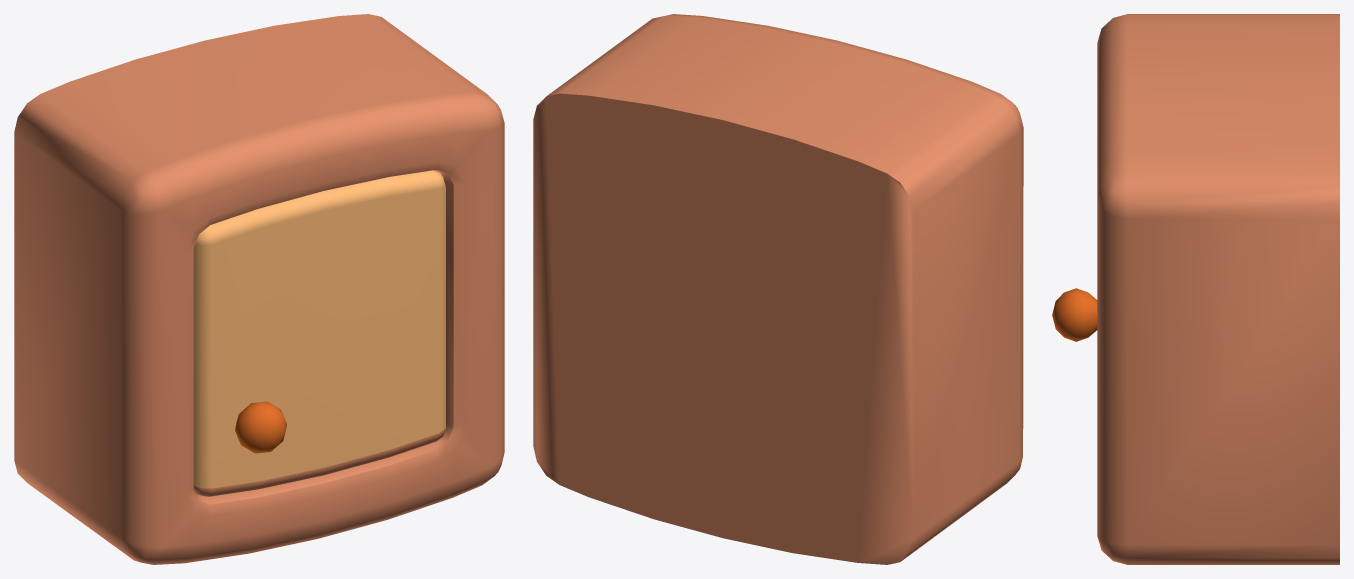
The model's file is armario_parede_1porta_campestre_pacote.glb.
The picture shows the model from 3 angles, left to right: view 1: azimuth 30°, elevation 25°; view 2: azimuth 150°, elevation 25°; view 3: azimuth 270°, elevation 25°; orthographic projection.
Parts seen in each view (by area): view 1: armario_parede_1porta_campestre_pacote, porta_1; view 2: armario_parede_1porta_campestre_pacote; view 3: armario_parede_1porta_campestre_pacote, porta_1.
Part boxes in pixels (x1,y1,x2,y2): armario_parede_1porta_campestre_pacote: (14,14,504,564); porta_1: (193,170,445,496); armario_parede_1porta_campestre_pacote: (533,14,1023,564); armario_parede_1porta_campestre_pacote: (1097,14,1339,564); porta_1: (1052,288,1097,341).
Size of the model in its own units: 0.5776 by 0.6075 by 0.3799.
Materials: 1 (1 with a texture image).
